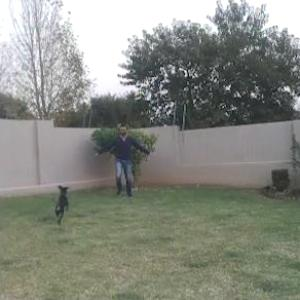land: (83, 114, 151, 206)
